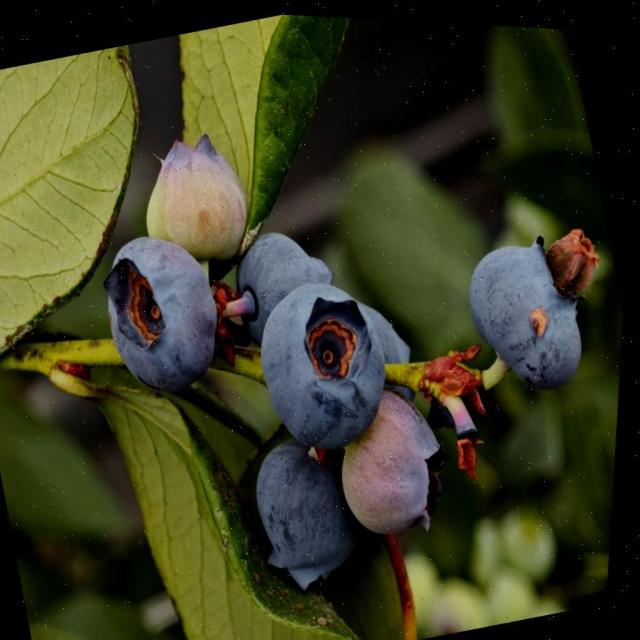RipeBlueBerry: (242, 258, 416, 463), (452, 210, 627, 403), (86, 215, 246, 406), (244, 426, 380, 596)
Semi-RipeBlueBerry: (324, 372, 474, 547)
UnripeBlueBerry: (127, 119, 265, 272)
